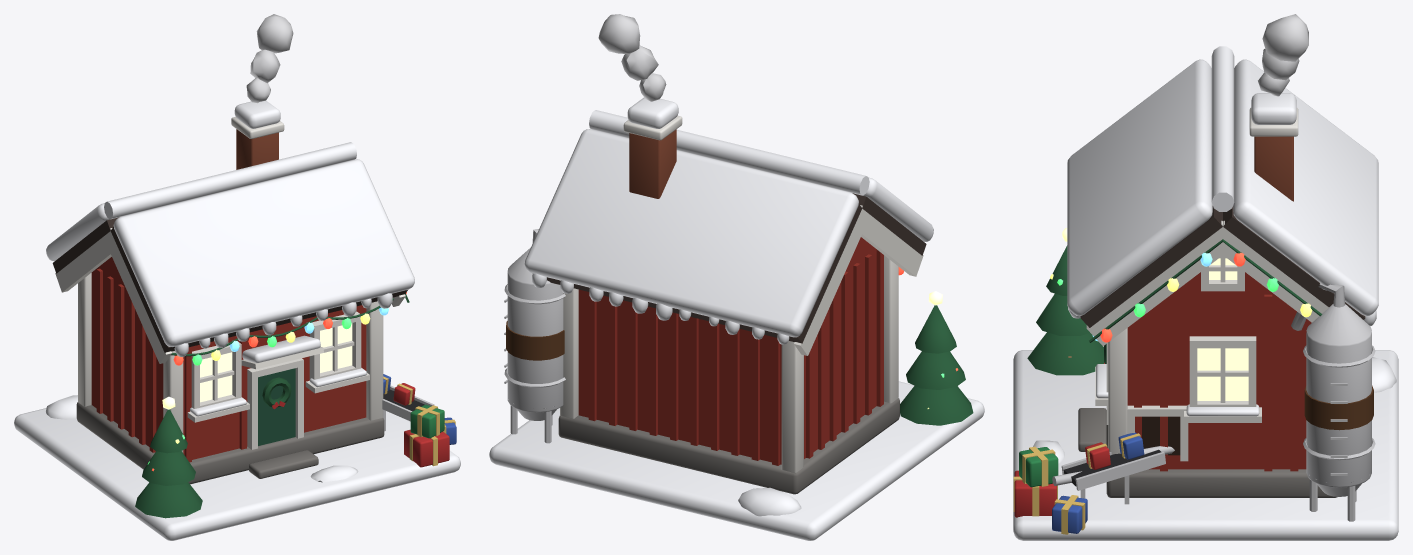
Rendered from xmasFactory.glb.
3 views of the same model, side by side, from view 1: azimuth 30°, elevation 25°; view 2: azimuth 150°, elevation 25°; view 3: azimuth 270°, elevation 25° (orthographic). The views are drawn at different scales.
Parts seen in each view (by area): view 1: xmasFactory; view 2: xmasFactory; view 3: xmasFactory.
Part boxes in pixels (x1,y1,x2,y2): xmasFactory: (14, 14, 460, 540); xmasFactory: (489, 14, 984, 540); xmasFactory: (1013, 14, 1398, 540).
Size of the model in its own units: 0.9827 by 1.17 by 0.85.
